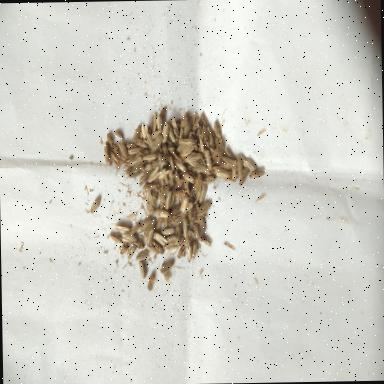pbw: (146, 165, 161, 183), (112, 144, 124, 164), (159, 259, 174, 275), (150, 238, 164, 255), (196, 202, 213, 216), (138, 169, 151, 187), (153, 231, 168, 246), (181, 142, 195, 158), (238, 166, 249, 186), (110, 222, 132, 232), (168, 204, 181, 220), (214, 166, 231, 178), (191, 110, 201, 130), (146, 272, 156, 292), (108, 233, 126, 244), (168, 213, 184, 225), (152, 133, 164, 149), (182, 214, 190, 238), (162, 263, 171, 284), (121, 232, 138, 243), (117, 140, 127, 158), (194, 222, 203, 242), (132, 124, 142, 142), (188, 134, 198, 152), (162, 122, 170, 144), (204, 148, 212, 170), (174, 223, 182, 245), (249, 168, 265, 179), (154, 207, 170, 218), (90, 197, 100, 214), (174, 159, 187, 172), (142, 132, 154, 146), (136, 248, 150, 260), (128, 155, 142, 167), (246, 158, 258, 172), (130, 222, 142, 236), (164, 190, 172, 211), (222, 154, 236, 166), (125, 245, 136, 260), (146, 192, 155, 210), (171, 118, 179, 138), (174, 170, 182, 190), (216, 144, 224, 164), (202, 124, 210, 144), (194, 174, 202, 194), (182, 172, 195, 184), (158, 168, 170, 181), (237, 154, 244, 176), (231, 160, 238, 182), (202, 234, 213, 248), (162, 143, 170, 162), (138, 260, 146, 279), (180, 193, 188, 212), (167, 166, 174, 187), (198, 214, 206, 232), (214, 121, 222, 139), (146, 228, 154, 246), (120, 242, 131, 255), (128, 168, 142, 178), (157, 186, 167, 200), (188, 152, 202, 162), (128, 147, 145, 155), (200, 185, 207, 204), (142, 152, 158, 160), (201, 112, 209, 128), (152, 112, 158, 133), (177, 244, 186, 258), (155, 217, 164, 231), (158, 106, 166, 121), (156, 115, 164, 130), (192, 240, 198, 260), (160, 228, 174, 236), (132, 241, 144, 250), (169, 125, 175, 143), (158, 152, 170, 161), (142, 183, 157, 190), (142, 124, 148, 140), (126, 212, 138, 220), (107, 133, 113, 148), (187, 245, 192, 262), (115, 130, 124, 139), (199, 138, 204, 154)
